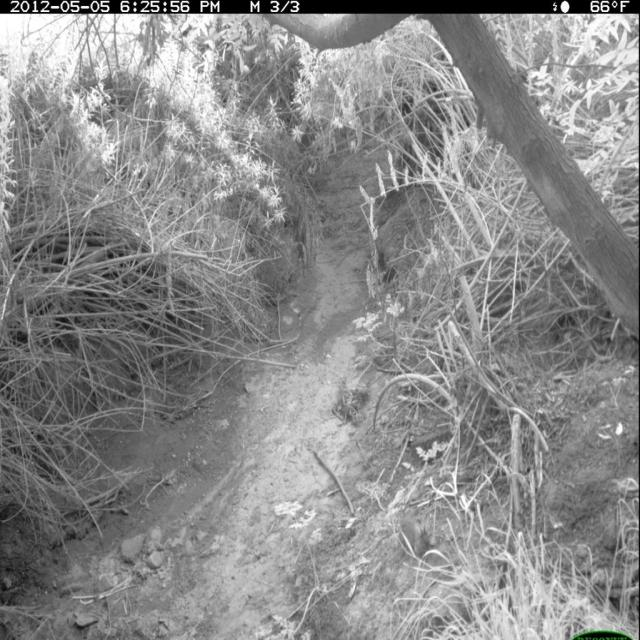rabbit: (395, 509, 434, 556)
